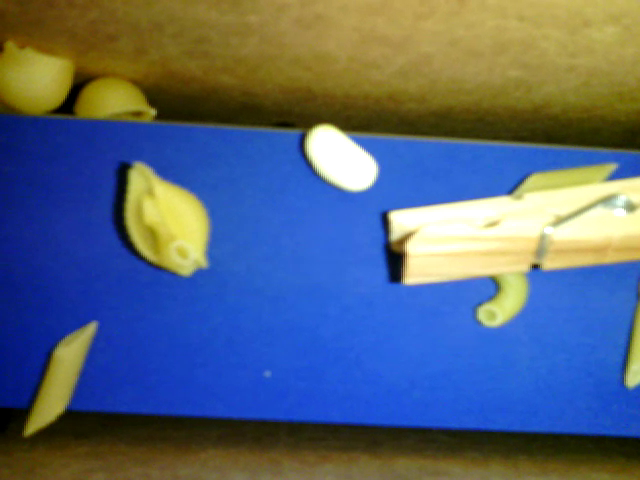elbow: (475, 248, 527, 330), (140, 194, 193, 268)
penne: (21, 321, 97, 437), (507, 161, 620, 199), (622, 297, 639, 391)
shell: (114, 157, 216, 282), (1, 37, 79, 120), (73, 76, 159, 122)
